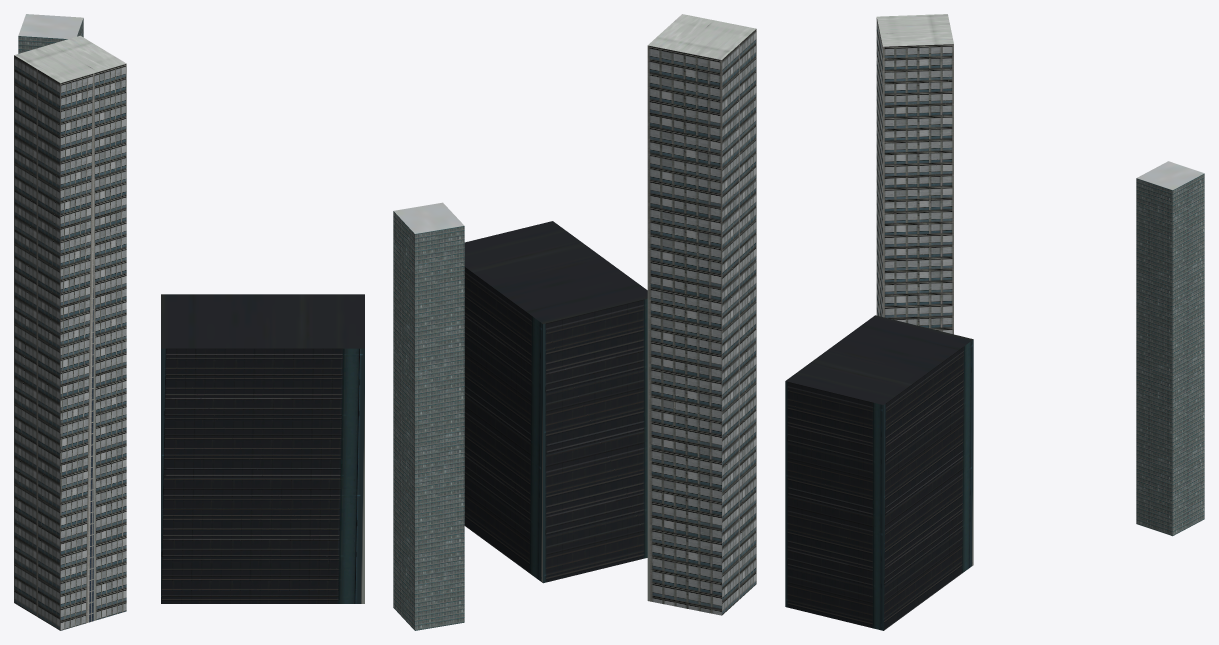
Rendered from 00_03_outside_building_i.dae.
The picture shows the model from 3 angles, left to right: view 1: azimuth 30°, elevation 25°; view 2: azimuth 150°, elevation 25°; view 3: azimuth 270°, elevation 25°; orthographic projection. The views are drawn at different scales.
Visible parts, largest first — view 1: Bi-Pivot; view 2: Bi-Pivot; view 3: Bi-Pivot.
Boxes of the visible parts, bbox=[...] form: Bi-Pivot: bbox=[14, 14, 364, 630]; Bi-Pivot: bbox=[393, 14, 756, 630]; Bi-Pivot: bbox=[785, 14, 1204, 630].
Size of the model in its own units: 127 by 211 by 166.
